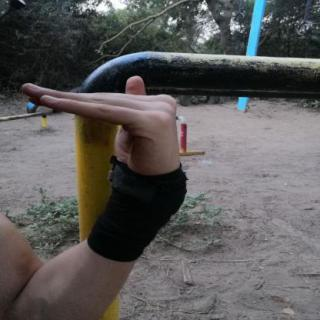KHAA: (10, 65, 197, 185)
